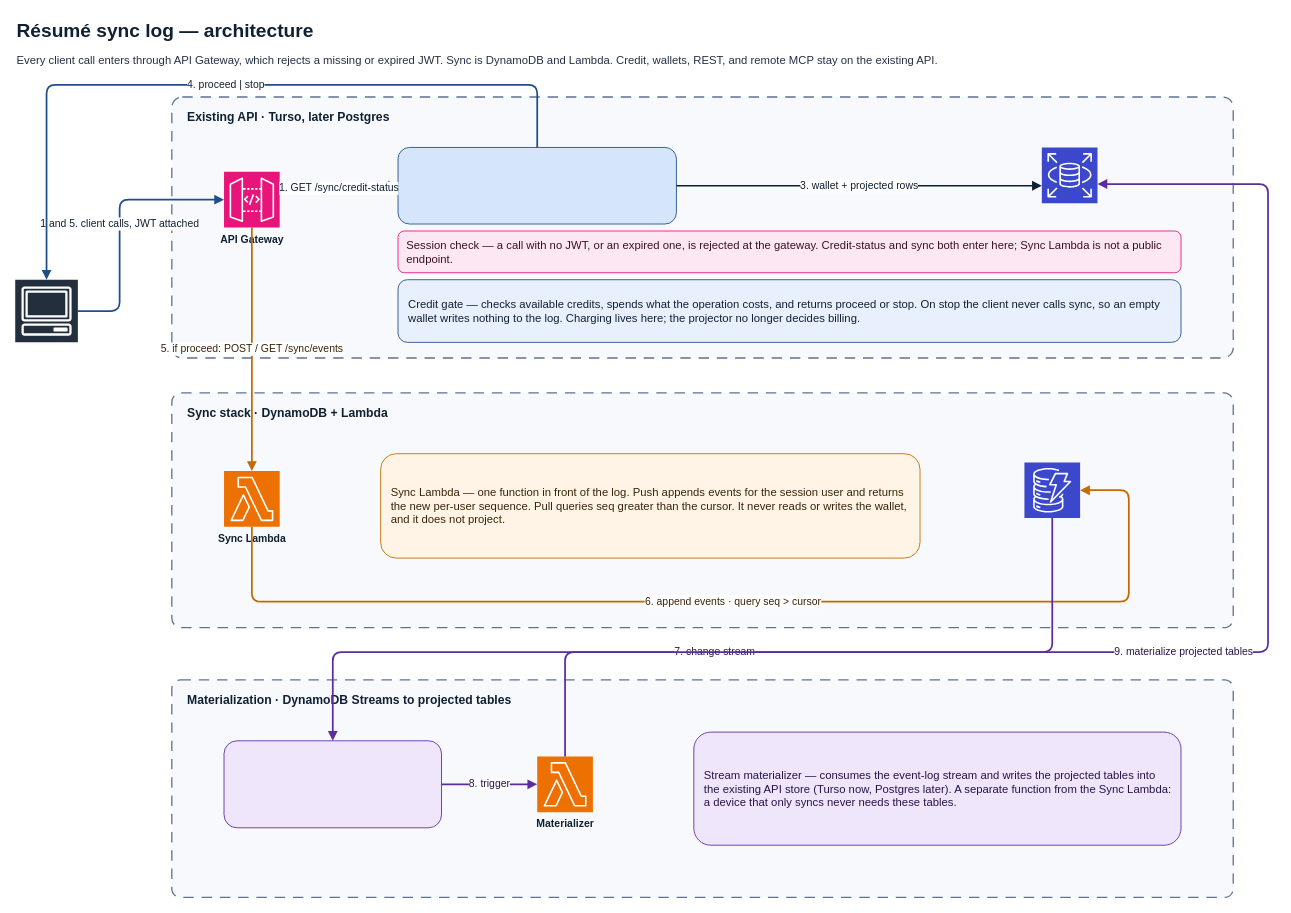
This 1291x913 diagram has some shape labels left out. The centre of each missing label's shape, as x and y in pixels:
Device: the point at 46,310
DynamoDB Streams change stream on the event log: the point at 332,784
Event log: the point at 1052,490
Existing API credit gate · wallets · REST · remote MCP: the point at 536,185
Turso / Postgres: the point at 1069,175
